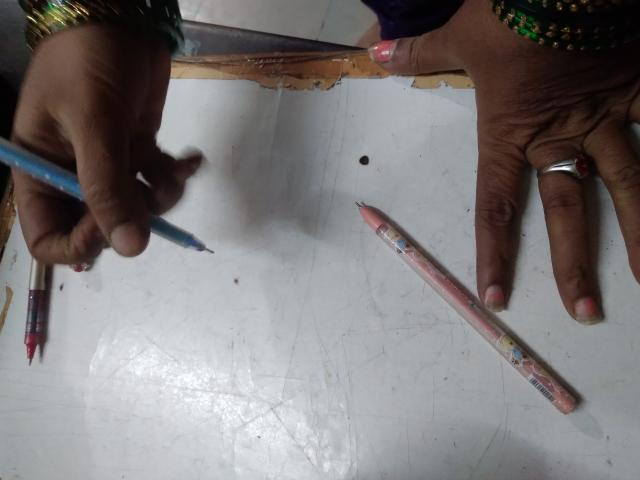PEN: (27, 331, 286, 480), (221, 0, 296, 223), (105, 17, 243, 63)
